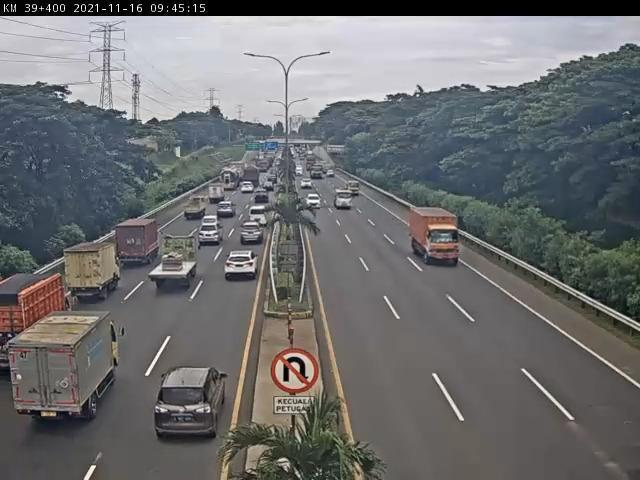car: (152, 368, 224, 440), (226, 251, 258, 280), (239, 224, 263, 247), (198, 226, 221, 246), (250, 208, 269, 227), (218, 203, 237, 220), (201, 219, 217, 229)
truck: (14, 318, 121, 421), (64, 248, 119, 307), (411, 207, 461, 264), (152, 236, 199, 292), (117, 220, 159, 266), (184, 199, 207, 221), (207, 185, 224, 203)
